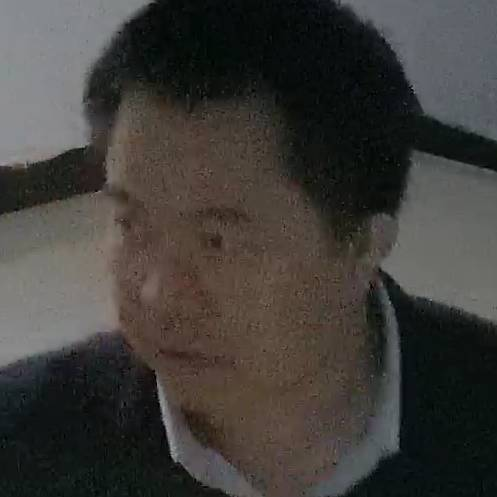cb: (59, 56, 415, 412)
